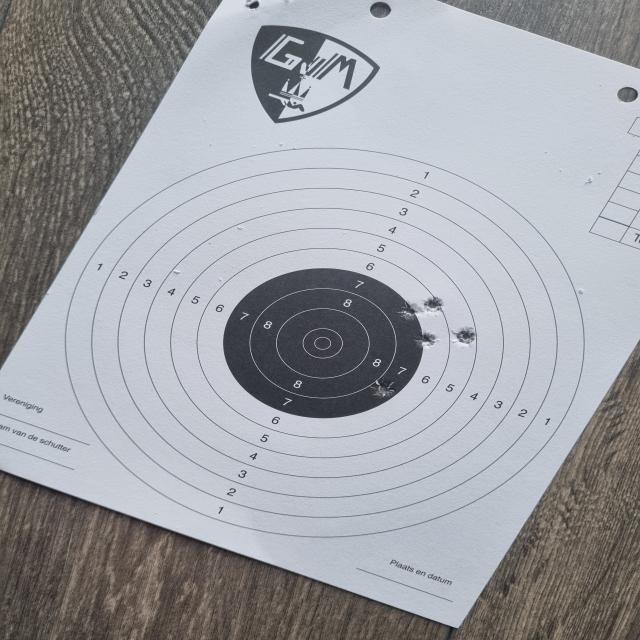6: (450, 326, 478, 344)
7: (424, 296, 444, 312)
8: (415, 331, 440, 348), (397, 302, 423, 318)
9: (370, 378, 395, 398)
Black Contour: (221, 268, 426, 420)
Target: (62, 146, 588, 536)
